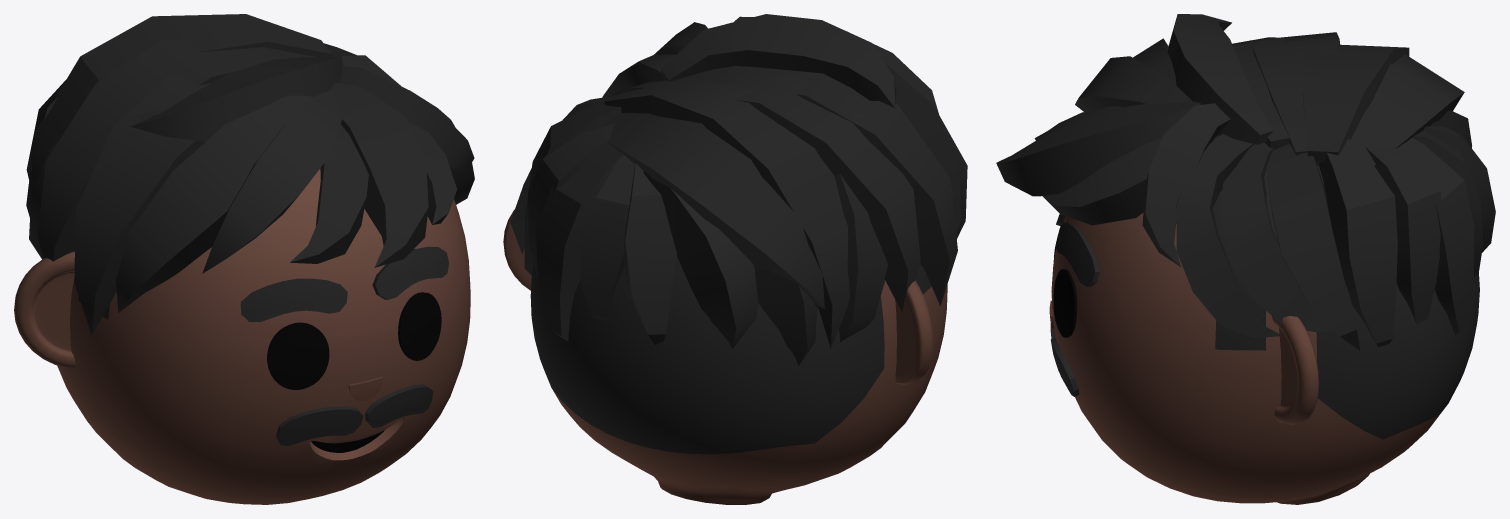
The model's file is man.gltf.
3 renders of one model, left to right at view 1: azimuth 30°, elevation 25°; view 2: azimuth 150°, elevation 25°; view 3: azimuth 270°, elevation 25°, orthographic. The views are drawn at different scales.
Parts seen in each view (by area): view 1: Cube.257, Roundcube.008, Circle.307, Circle.309, ears.006, Circle.310, Circle.308; view 2: Cube.257, Roundcube.008, ears.006; view 3: Cube.257, Roundcube.008, ears.006, Circle.309, Circle.307, Circle.310.
Part boxes in pixels (x1,y1,x2,y2): Cube.257: (26, 14, 474, 334); Roundcube.008: (57, 168, 470, 504); Circle.307: (267, 292, 441, 389); Circle.309: (240, 246, 449, 322); ears.006: (14, 251, 75, 368); Circle.310: (276, 384, 433, 445); Circle.308: (348, 376, 383, 401); Cube.257: (510, 14, 967, 365); Roundcube.008: (530, 256, 947, 504); ears.006: (503, 209, 933, 384); Cube.257: (996, 14, 1495, 350); Roundcube.008: (1051, 135, 1479, 504); ears.006: (1272, 315, 1318, 424); Circle.309: (1056, 214, 1099, 286); Circle.307: (1053, 226, 1077, 337); Circle.310: (1050, 323, 1079, 396).
Size of the model in its own units: 1.76 by 1.73 by 1.77.
2 materials, 2 textured.
